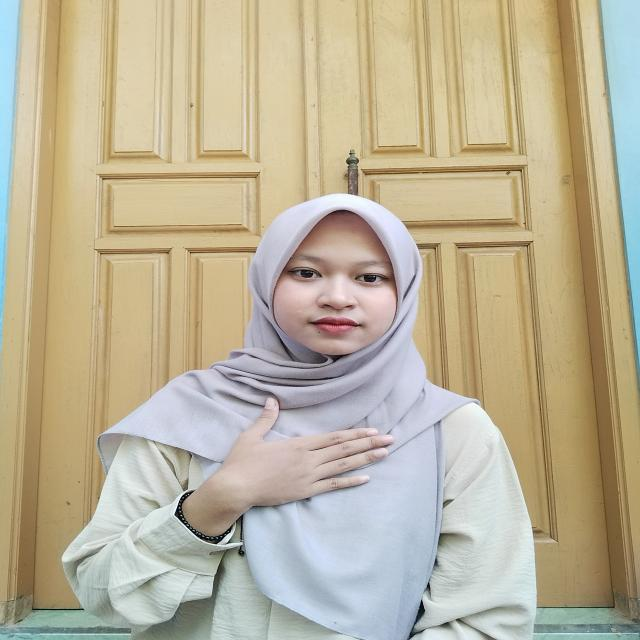tolong: (159, 393, 391, 526)
